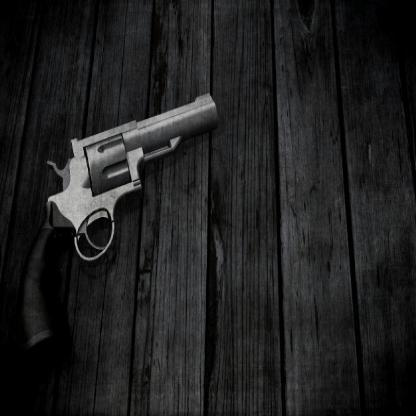Pistol: (0, 87, 240, 358)
